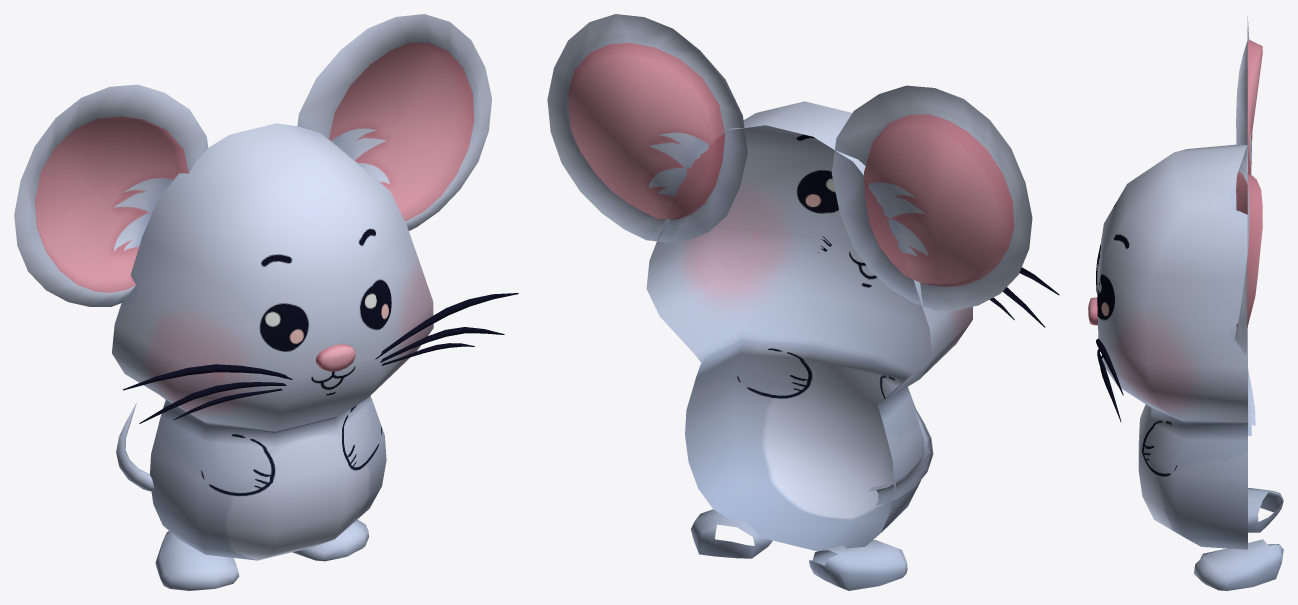
The model's file is Tikus_texture.fbx.
3 renders of one model, left to right at view 1: azimuth 30°, elevation 25°; view 2: azimuth 150°, elevation 25°; view 3: azimuth 270°, elevation 25°, orthographic. The views are drawn at different scales.
Visible parts, largest first — view 1: Cylinder, NurbsPath, Cube.008; view 2: Cylinder; view 3: Cylinder, NurbsPath.
Part boxes in pixels (x1=…): Cylinder: x1=14, y1=14, x2=491, y2=590; NurbsPath: x1=123, y1=293, x2=518, y2=423; Cube.008: x1=316, y1=344, x2=355, y2=371; Cylinder: x1=547, y1=14, x2=1032, y2=590; Cylinder: x1=1097, y1=16, x2=1283, y2=590; NurbsPath: x1=1096, y1=245, x2=1123, y2=421.
Bounding box in the file's own units: 331 × 332 × 128.
